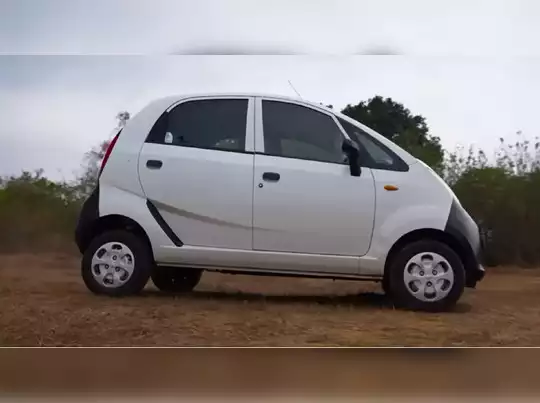Nano: (73, 92, 489, 314)
